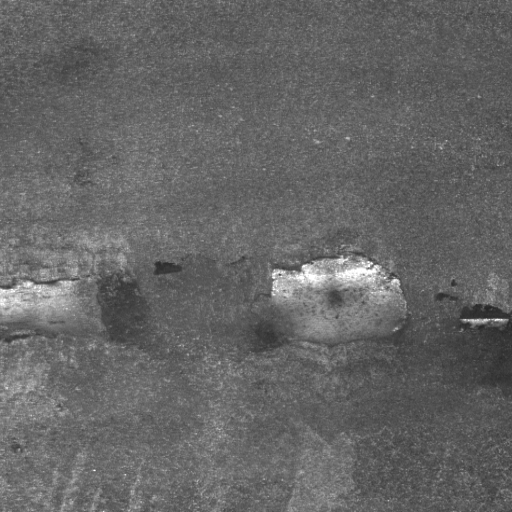qiaopi: (1, 252, 409, 352)
